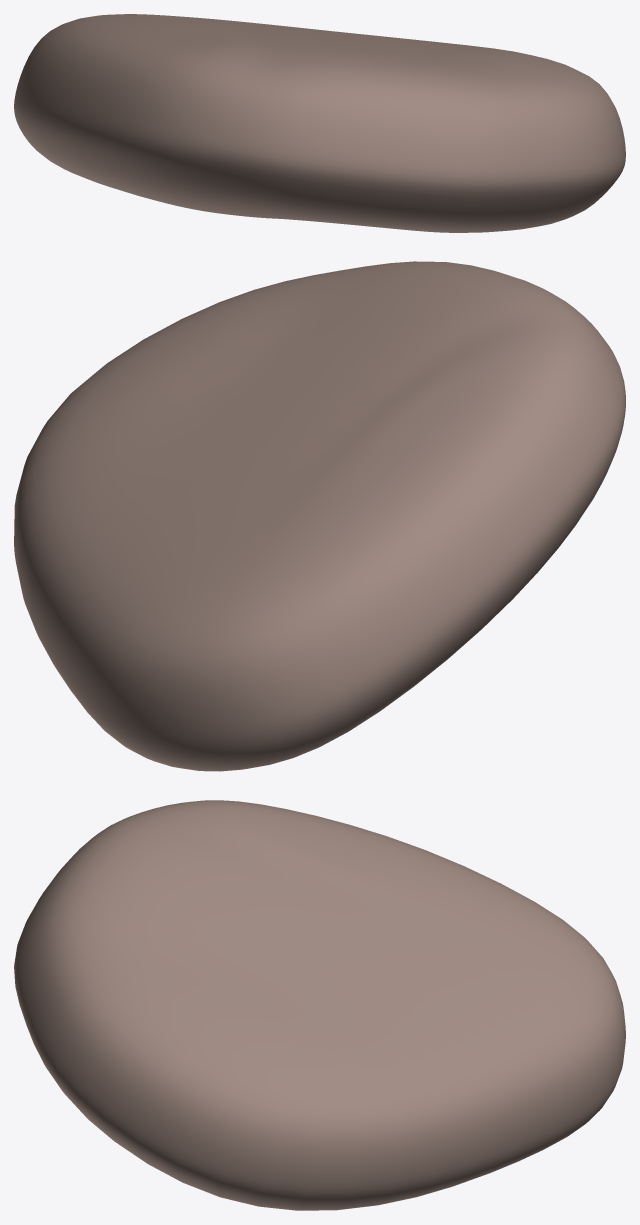
The model's file is Piedra2F.fbx.
3 renders of one model, top to bottom at view 1: azimuth 30°, elevation 25°; view 2: azimuth 150°, elevation 25°; view 3: azimuth 270°, elevation 25°, orthographic. The views are drawn at different scales.
Visible parts, largest first — view 1: Circle.008; view 2: Circle.008; view 3: Circle.008.
Boxes of the visible parts, x1,y1,x2,y2 form: Circle.008: (14, 14, 625, 232); Circle.008: (14, 261, 625, 771); Circle.008: (14, 800, 625, 1210).
Bounding box in the file's own units: 588 × 317 × 672.
